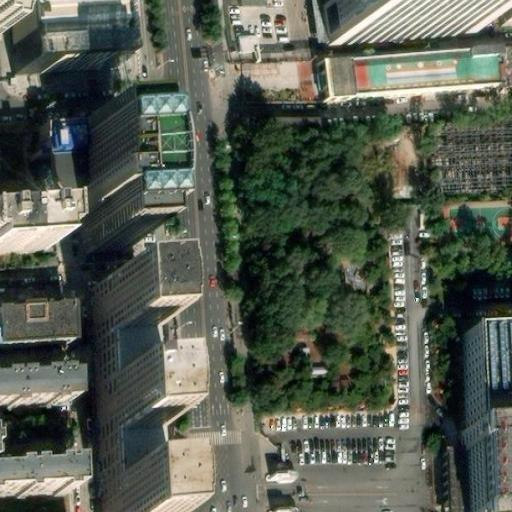building: (317, 44, 512, 107), (462, 328, 512, 512), (79, 136, 133, 265), (439, 135, 512, 204), (43, 139, 84, 220), (105, 405, 155, 469), (99, 305, 148, 365), (102, 362, 151, 408), (109, 466, 157, 509), (0, 466, 72, 494), (0, 365, 67, 395), (0, 208, 49, 247)
